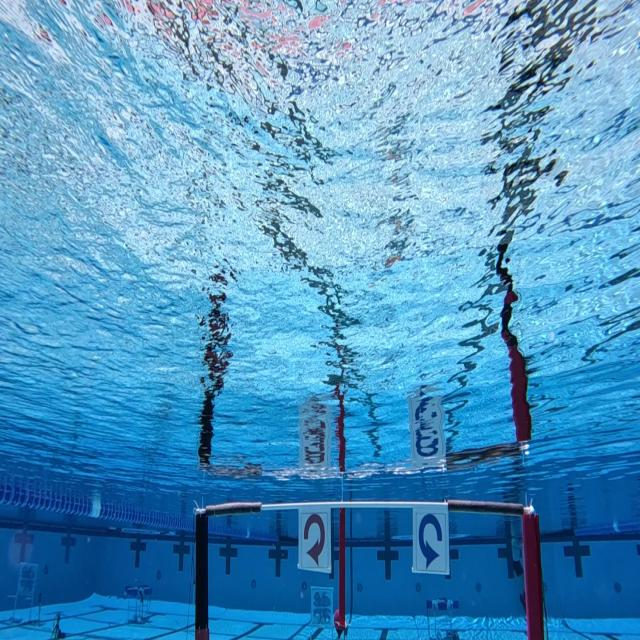blue_side: (412, 499, 450, 574)
red_side: (298, 510, 329, 576)
